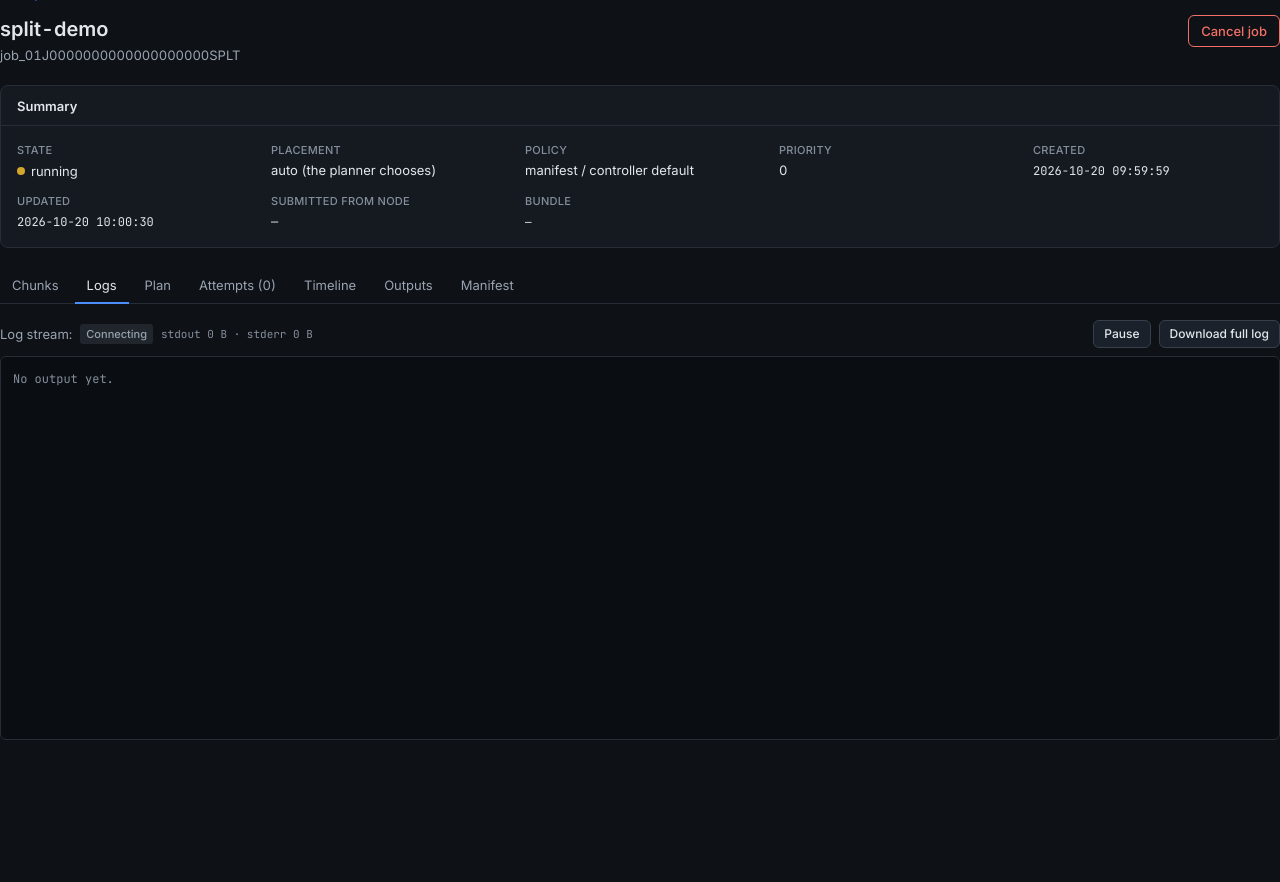
Test: Chunks tab (V0.10 G7) › shows exactly the API's numbers: progress, legend, nodes
Step 1. Click the tab "Chunks" → (35, 286), box [0, 268, 71, 304]
(page scrolled)
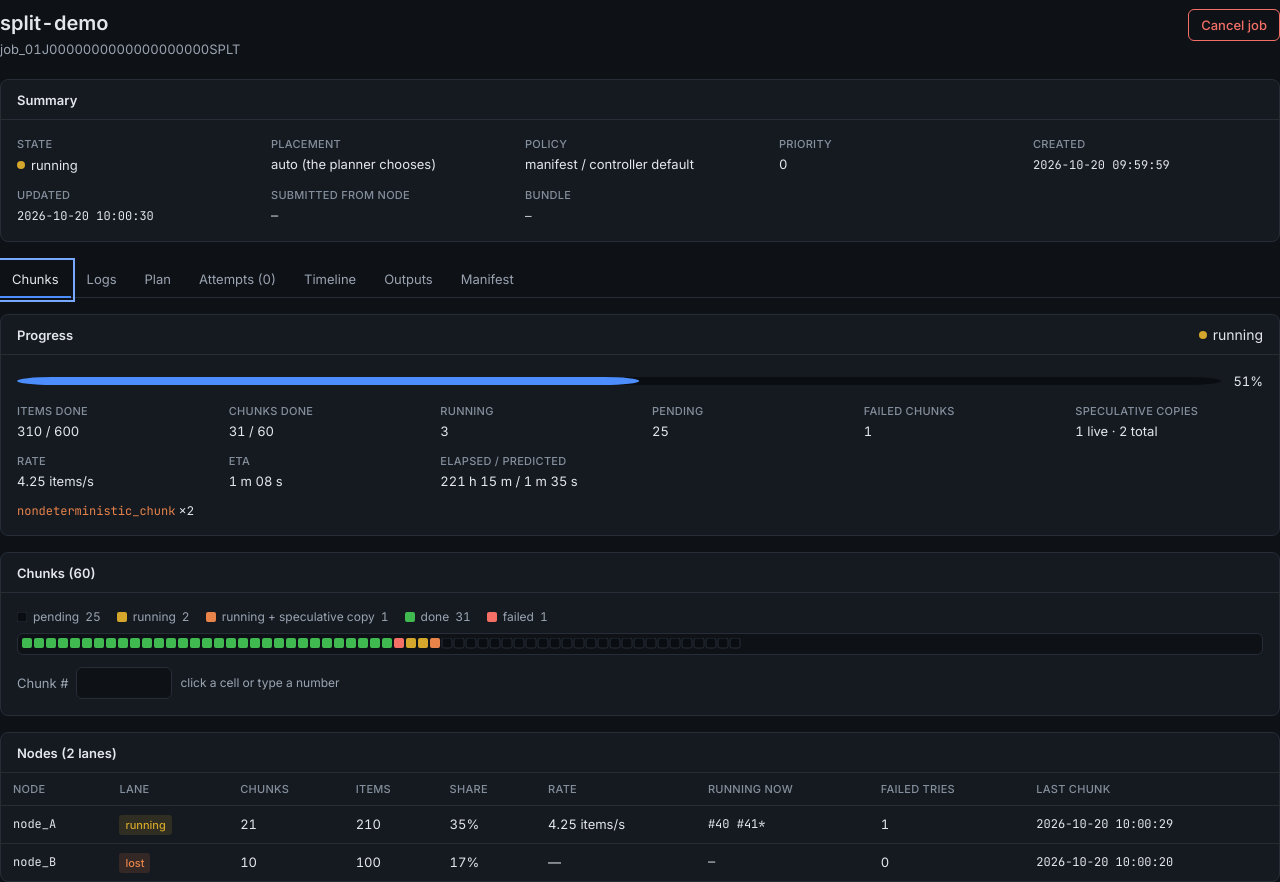
Result: the element "Progress" is shown at [0, 314, 1279, 536]
Result: the text "1 live · 2 total" is shown at [1075, 423, 1158, 439]
Result: the text "4.25 items/s" is shown at [17, 473, 94, 489]
